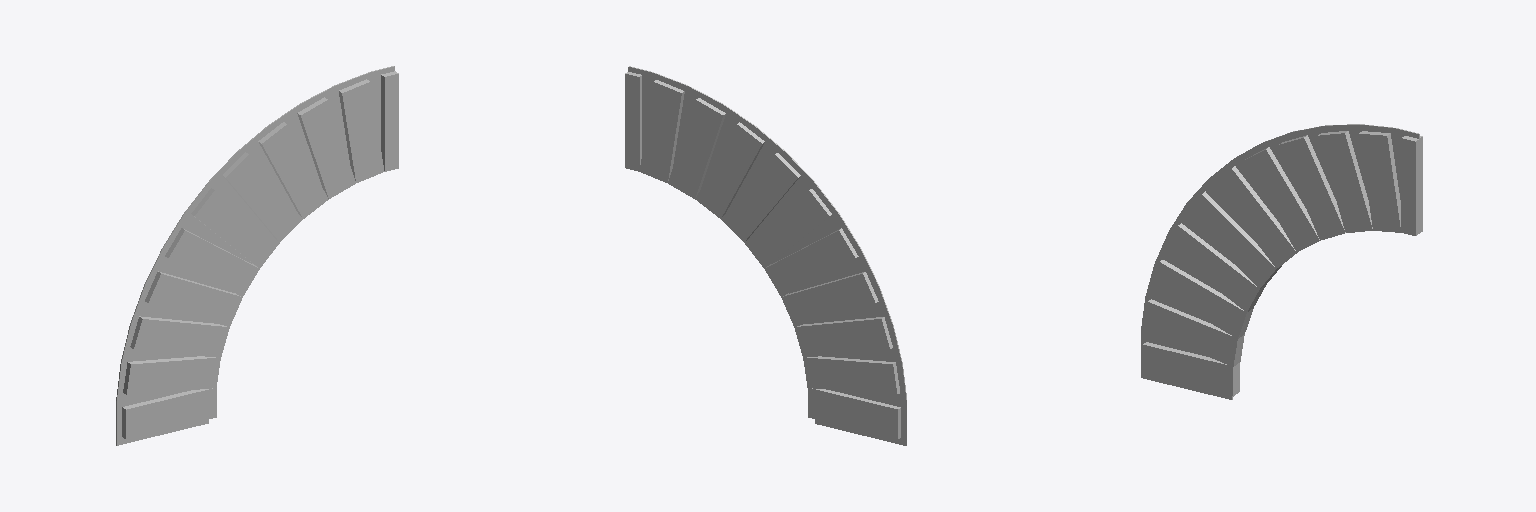
File: lime_mortar_orange_clay_brick_facade_round_arch_2_left.obj
3 renders of one model, left to right at view 1: azimuth 30°, elevation 25°; view 2: azimuth 150°, elevation 25°; view 3: azimuth 330°, elevation 25°, orthographic.
Parts seen in each view (by area): view 1: cube.047, cube.056, cube.048, cube.049, cube.055, cube.054, cube.050, cube.053, cube.051, cube.052, cube.057, cube.058 (+10 smaller); view 2: cube.056, cube.048, cube.055, cube.047, cube.049, cube.054, cube.050, cube.053, cube.051, cube.052, cube.057, cube.065 (+10 smaller); view 3: cube.049, cube.050, cube.048, cube.051, cube.053, cube.054, cube.052, cube.047, cube.055, cube.056, cube.057, cube.058 (+3 smaller).
Boxes of the visible parts, x1,y1,x2,y2 form: cube.047: [122, 388, 216, 439]; cube.056: [339, 79, 384, 182]; cube.048: [123, 356, 220, 394]; cube.049: [130, 316, 229, 357]; cube.055: [297, 97, 355, 198]; cube.054: [258, 122, 328, 218]; cube.050: [145, 271, 242, 326]; cube.053: [223, 152, 302, 241]; cube.051: [165, 228, 259, 296]; cube.052: [191, 188, 279, 268]; cube.057: [381, 71, 398, 171]; cube.058: [116, 390, 208, 445]; cube.056: [640, 80, 684, 182]; cube.048: [803, 356, 899, 394]; cube.055: [668, 98, 725, 198]; cube.047: [808, 388, 900, 438]; cube.049: [794, 317, 892, 357]; cube.054: [695, 122, 764, 218]; cube.050: [781, 272, 878, 326]; cube.053: [721, 153, 800, 241]; cube.051: [765, 228, 858, 296]; cube.052: [744, 189, 831, 268]; cube.057: [625, 72, 641, 171]; cube.065: [750, 152, 814, 236]; cube.049: [1151, 260, 1253, 338]; cube.050: [1165, 223, 1266, 312]; cube.048: [1143, 299, 1244, 366]; cube.051: [1185, 191, 1281, 288]; cube.053: [1243, 147, 1319, 252]; cube.054: [1279, 135, 1345, 240]; cube.052: [1212, 166, 1296, 268]; cube.047: [1143, 342, 1239, 396]; cube.055: [1318, 131, 1372, 232]; cube.056: [1359, 131, 1400, 232]; cube.057: [1401, 136, 1422, 235]; cube.058: [1141, 334, 1232, 399].
Size of the model in its own units: 1.52 by 1.62 by 0.0677.